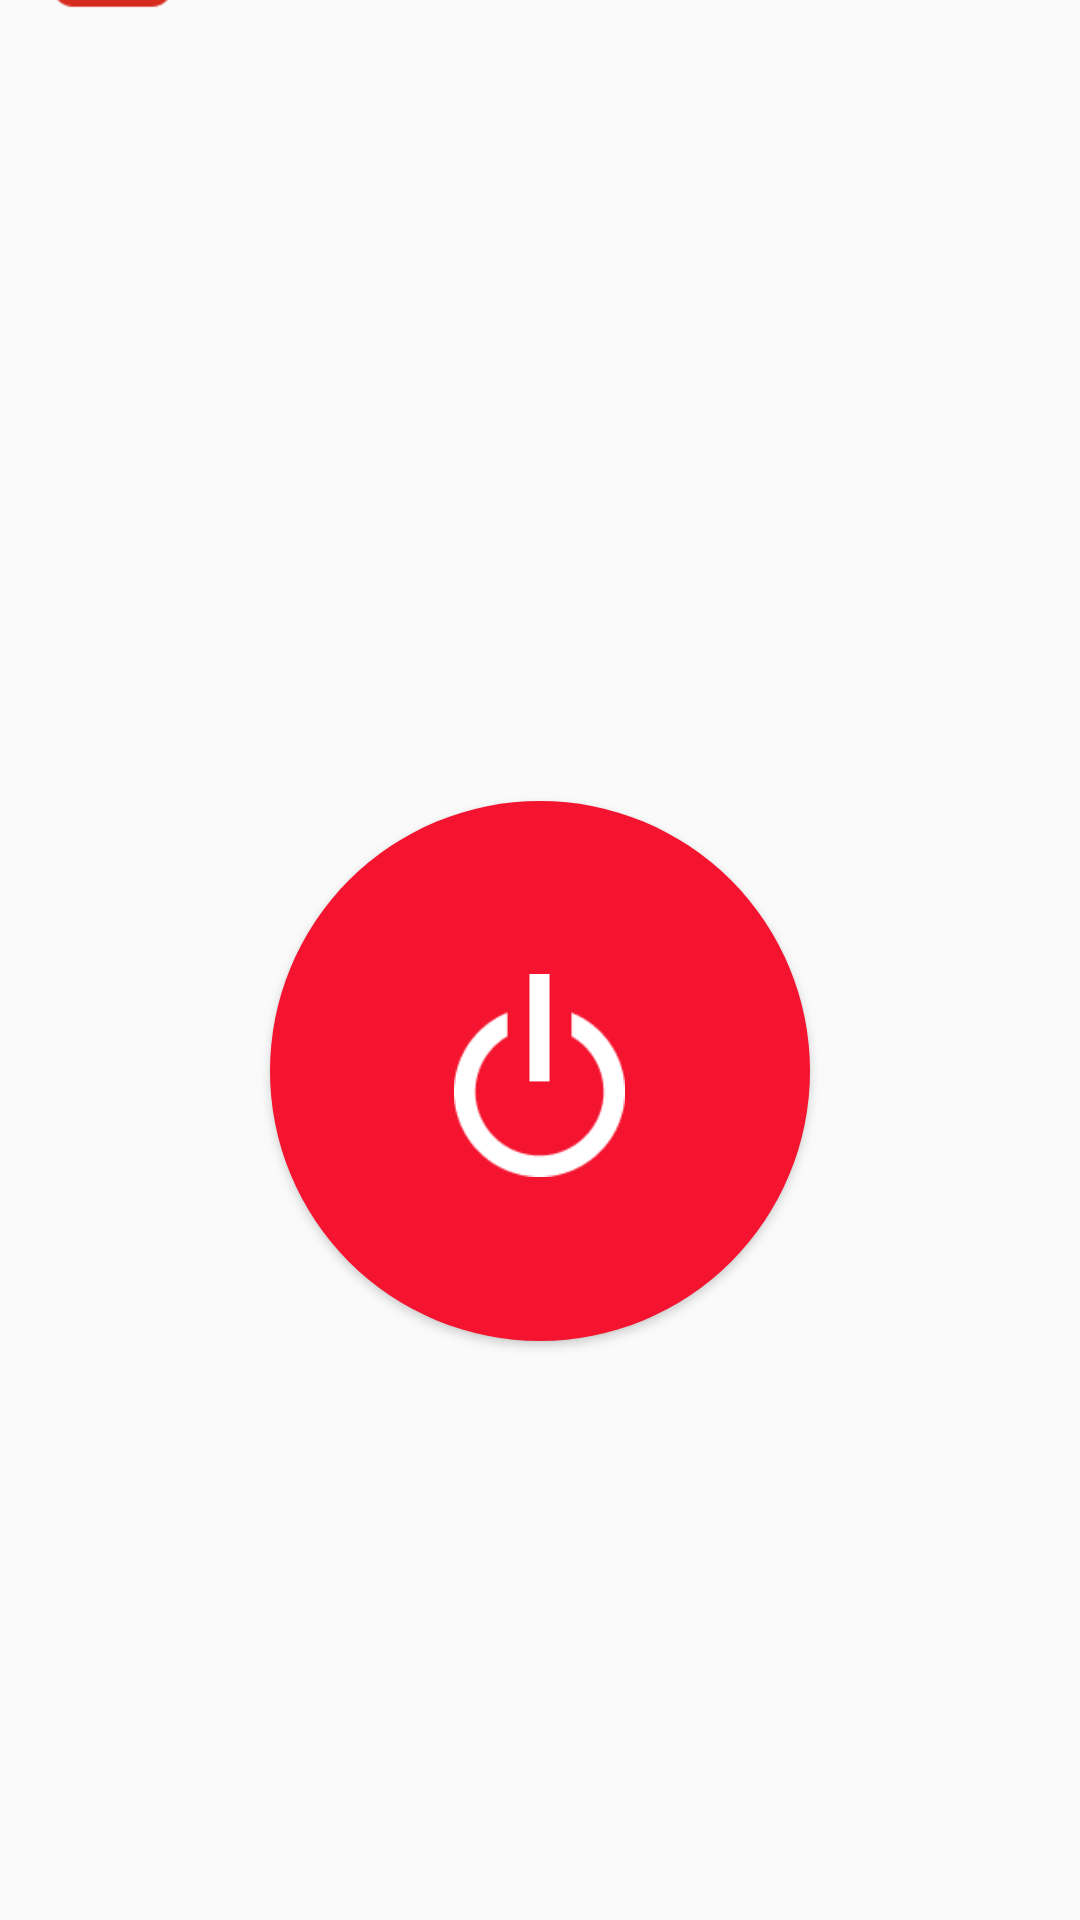

Icons on this 1080w x 1920h Android screen, each with its box as (x1, y1, x2, y2):
state off: (454, 974, 625, 1177)
